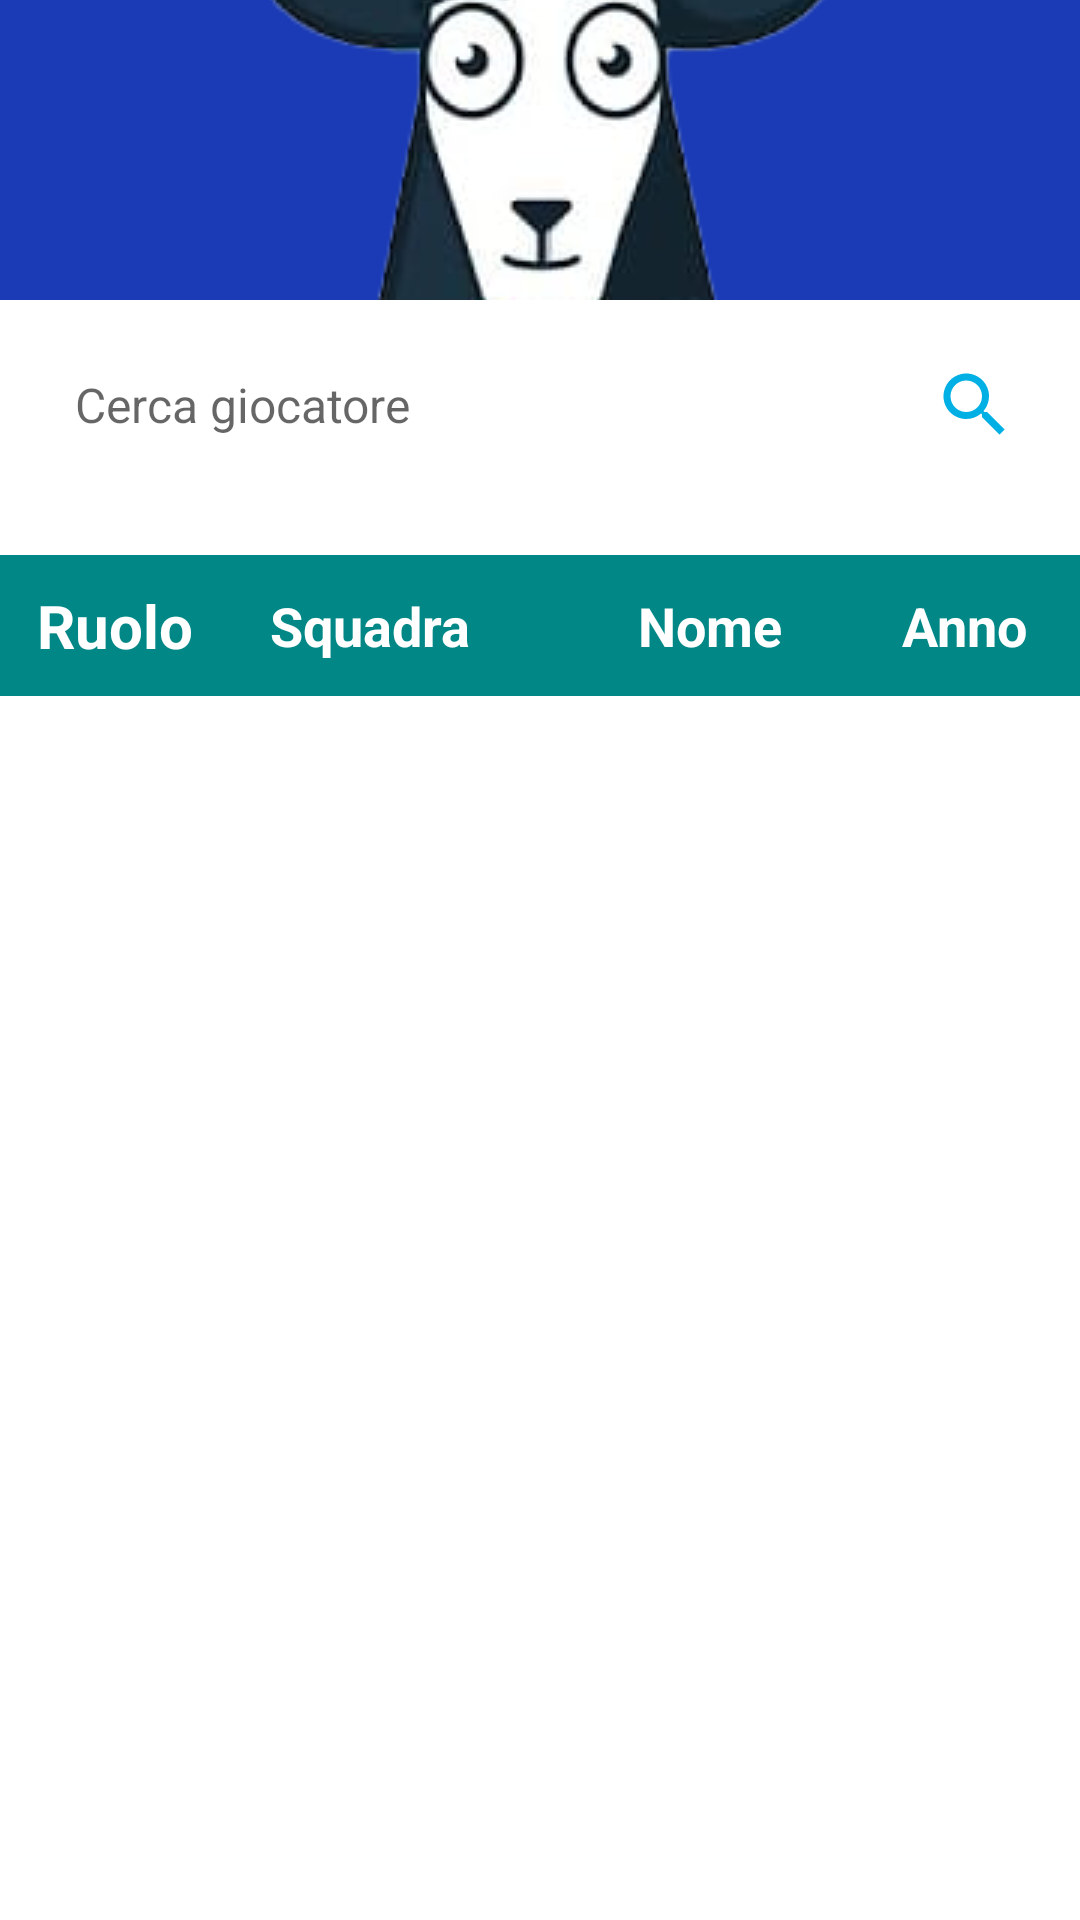

Icons on this 1080*1920 Android screen, each with the point to tap as [x,y]:
search: [974,404]
